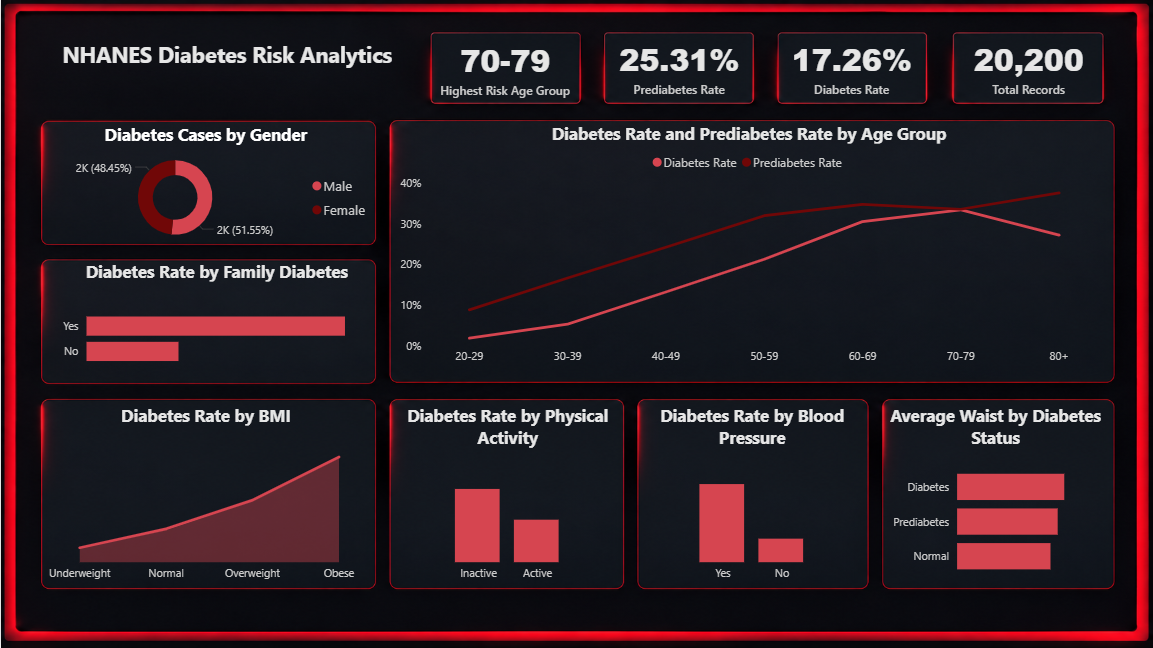

The page's visual inventory and layout, read from the dashboard file:
{"tool":"powerbi","page":{"name":"Page 1","canvas":[1280,720],"ordinal":0},"visuals":[{"type":"lineChart","title":"Diabetes Rate and Prediabetes Rate by Age Group","fields":{"Category":["nhanes_dashboard.age_group"],"Y":["nhanes_dashboard.Diabetes Rate","nhanes_dashboard.Prediabetes Rate"]},"box":[439,135.7,785.7,278.9],"z":0},{"type":"textbox","box":[62.6,37.5,395.5,85.1],"z":1},{"type":"card","fields":{"Values":["nhanes_dashboard.Total Records"]},"box":[1058.2,37.3,166.4,75.5],"z":2},{"type":"card","fields":{"Values":["nhanes_dashboard.Diabetes Rate"]},"box":[861.8,37.3,166.4,75.5],"z":3},{"type":"card","fields":{"Values":["nhanes_dashboard.Prediabetes Rate"]},"box":[670,37.3,166.4,75.5],"z":4},{"type":"card","fields":{"Values":["nhanes_dashboard.Highest Risk Age Group"]},"box":[477,38.2,166.4,75.5],"z":5},{"type":"donutChart","title":"Diabetes Cases by Gender","fields":{"Category":["nhanes_dashboard.sex"],"Y":["nhanes_dashboard.Diabetes Cases"]},"box":[36,136,382,140],"z":6},{"type":"areaChart","title":"Diabetes Rate by BMI","fields":{"Category":["nhanes_dashboard.bmi_category"],"Y":["nhanes_dashboard.Diabetes Rate"]},"box":[36,448,382,206],"z":7},{"type":"clusteredColumnChart","title":"Diabetes Rate by Physical Activity","fields":{"Category":["nhanes_dashboard.physical_activity"],"Y":["nhanes_dashboard.Diabetes Rate"]},"box":[440,448,246,206],"z":8},{"type":"barChart","title":"Diabetes Rate by Family Diabetes","fields":{"Category":["nhanes_dashboard.family_diabetes"],"Y":["nhanes_dashboard.Diabetes Rate"]},"box":[62,289,356,144],"z":9},{"type":"clusteredColumnChart","title":"Diabetes Rate by Blood Pressure","fields":{"Category":["nhanes_dashboard.told_high_bp"],"Y":["nhanes_dashboard.Diabetes Rate"]},"box":[712,448,246,206],"z":10},{"type":"barChart","title":"Average Waist by Diabetes Status","fields":{"Category":["nhanes_dashboard.diabetes_status"],"Y":["nhanes_dashboard.Avg Waist"]},"box":[980,448,250,206],"z":11}]}

Visuals, with their boxes in screenshot pixels (x1, y1, x2, y2), scaled from the page's 1280x720 canvas onto the 1153x648 screenshot:
"Diabetes Rate and Prediabetes Rate by Age Group" lineChart: box=[395, 122, 1103, 373]
textbox: box=[56, 34, 413, 110]
card - nhanes_dashboard.Total Records: box=[953, 34, 1103, 102]
card - nhanes_dashboard.Diabetes Rate: box=[776, 34, 926, 102]
card - nhanes_dashboard.Prediabetes Rate: box=[604, 34, 753, 102]
card - nhanes_dashboard.Highest Risk Age Group: box=[430, 34, 580, 102]
"Diabetes Cases by Gender" donutChart: box=[32, 122, 377, 248]
"Diabetes Rate by BMI" areaChart: box=[32, 403, 377, 589]
"Diabetes Rate by Physical Activity" clusteredColumnChart: box=[396, 403, 618, 589]
"Diabetes Rate by Family Diabetes" barChart: box=[56, 260, 377, 390]
"Diabetes Rate by Blood Pressure" clusteredColumnChart: box=[641, 403, 863, 589]
"Average Waist by Diabetes Status" barChart: box=[883, 403, 1108, 589]
